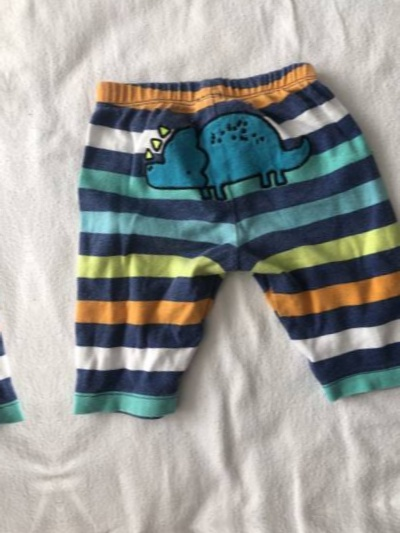Pants: (33, 44, 400, 429), (0, 94, 26, 479)
